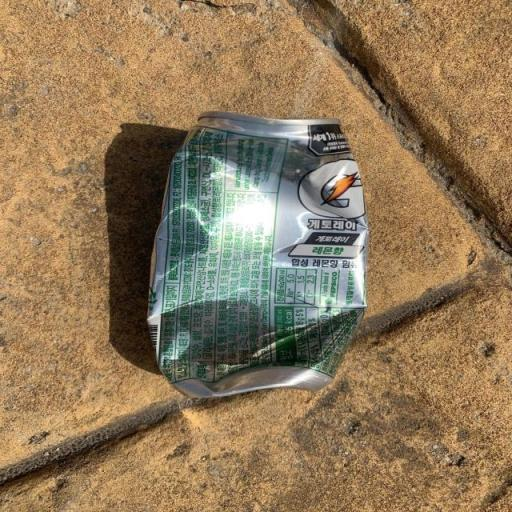metal: (136, 84, 385, 420)
